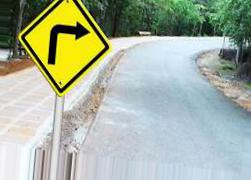right: (16, 1, 112, 97)
